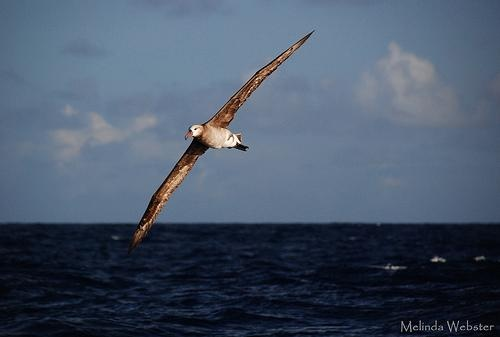bird: (124, 27, 314, 255)
